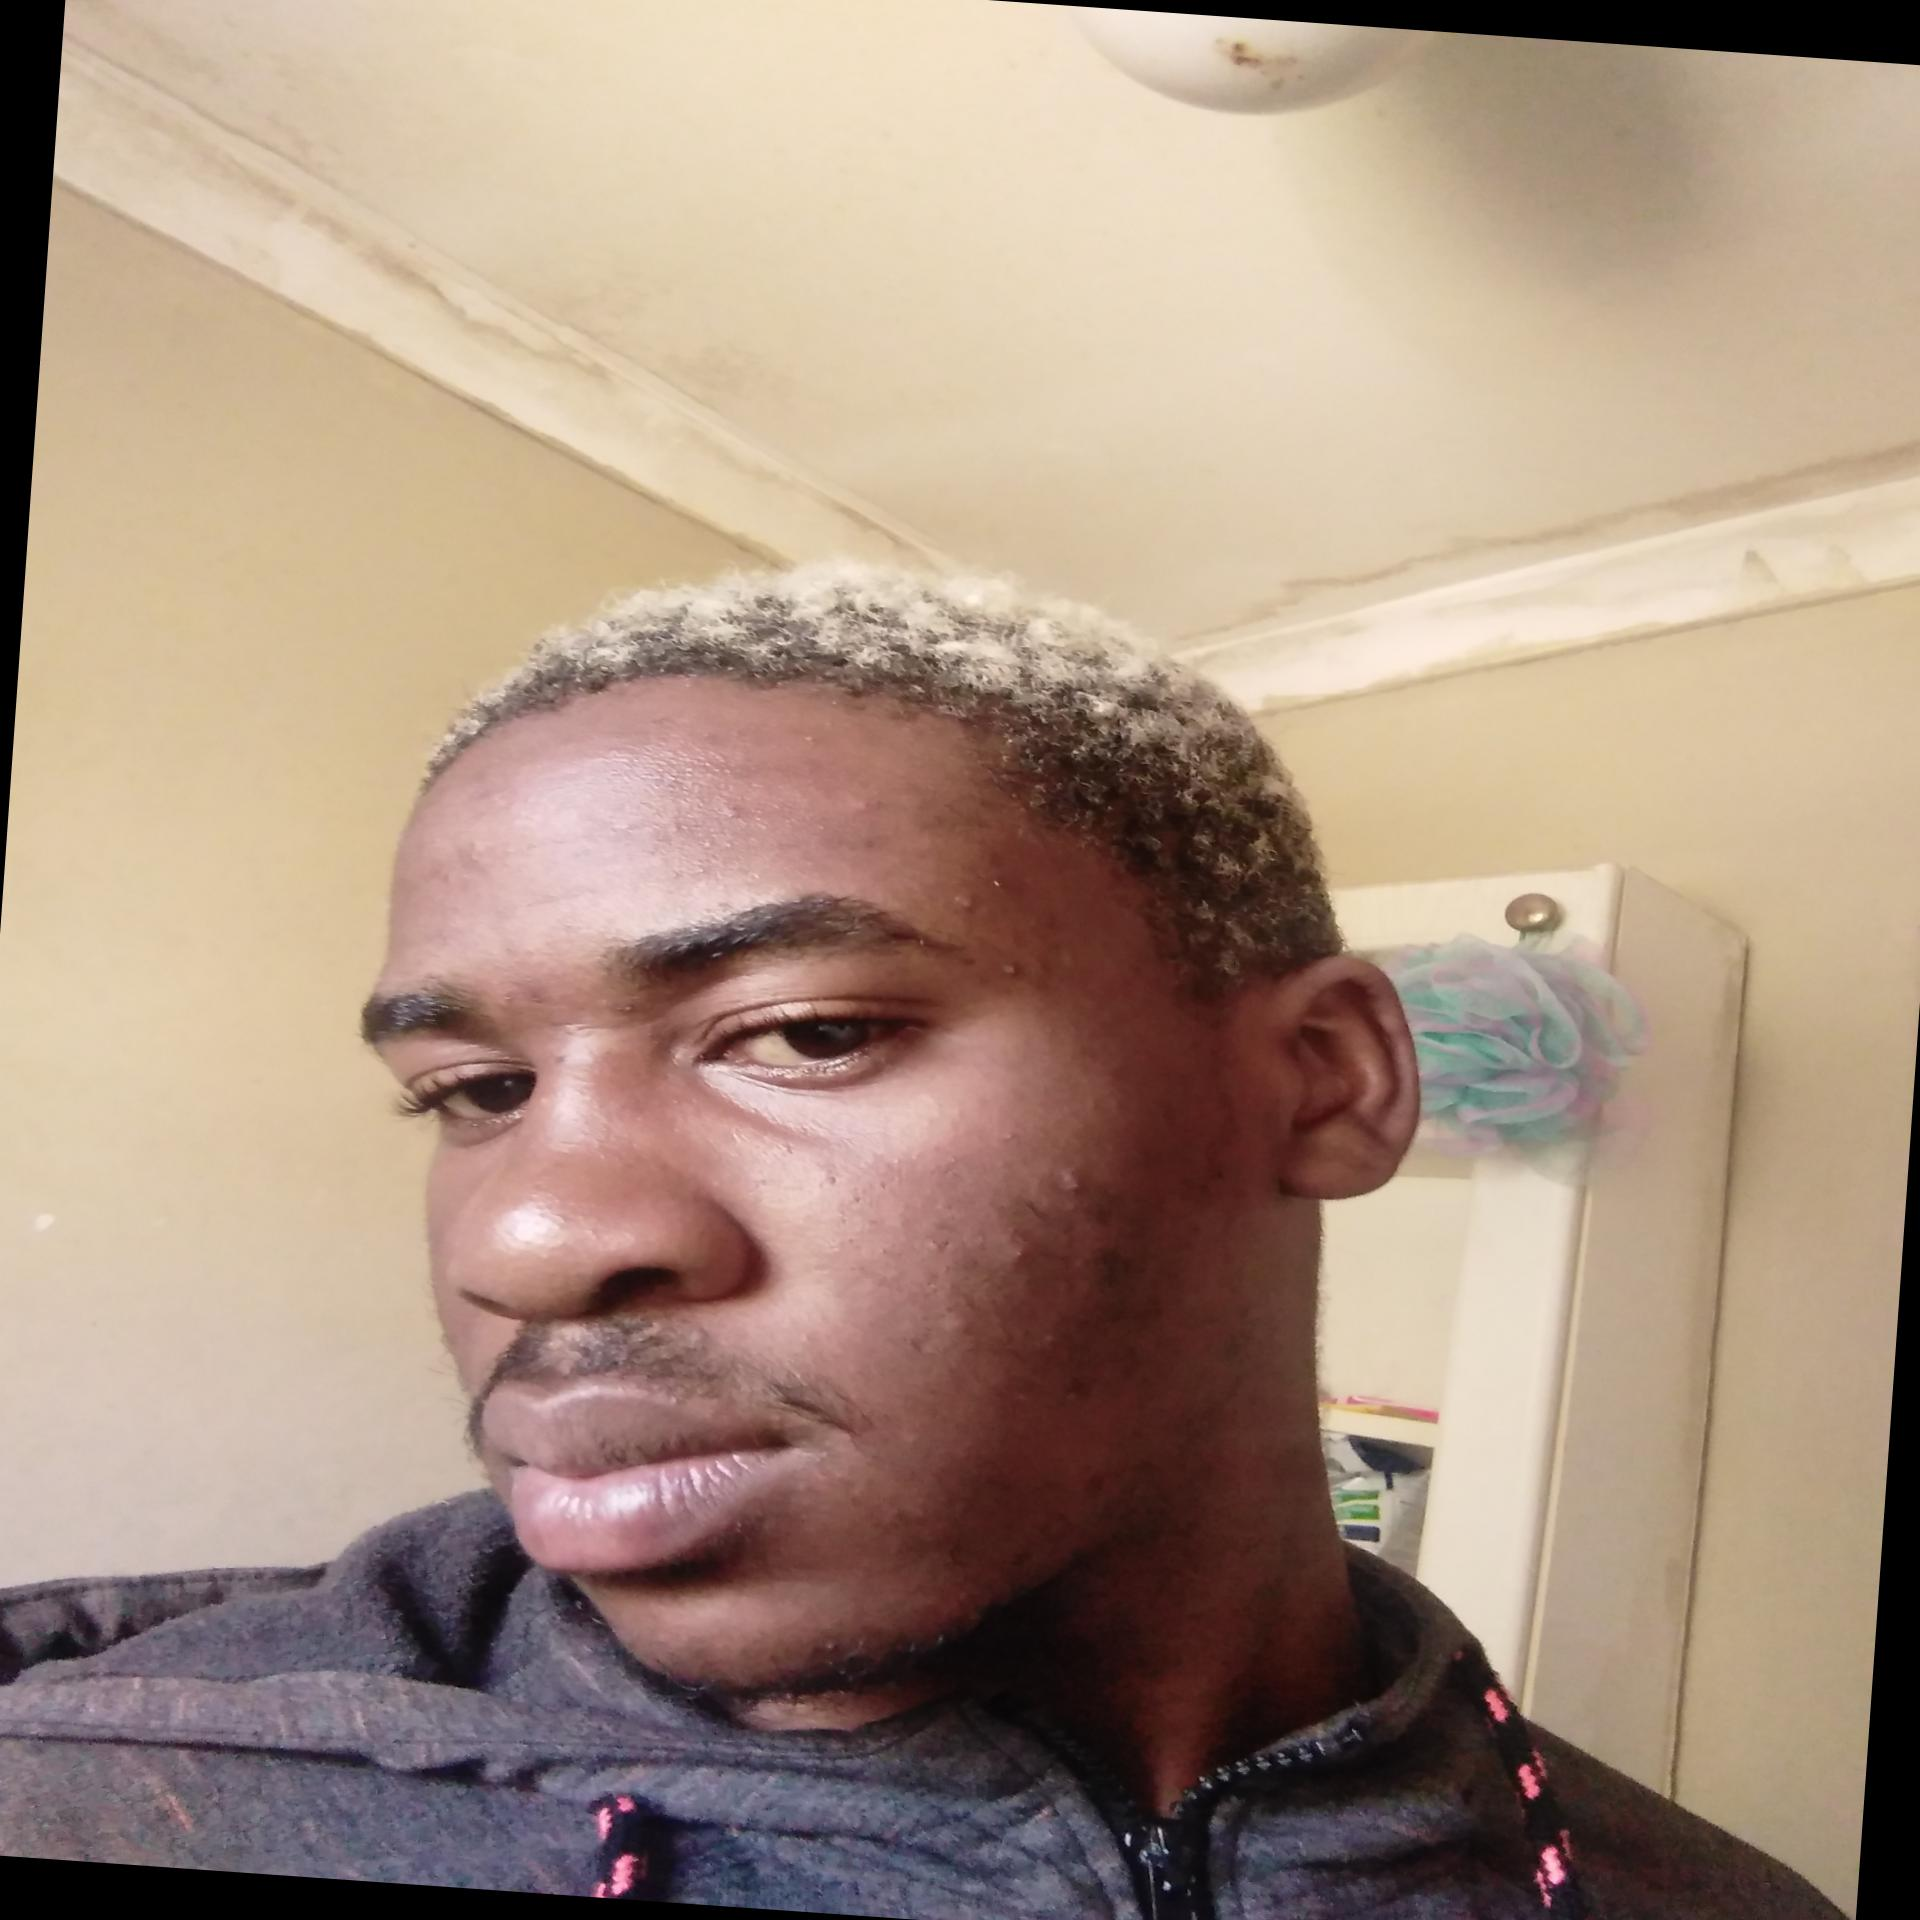Acne: (1050, 1162, 1095, 1196), (999, 1238, 1037, 1271), (992, 955, 1030, 985), (846, 789, 879, 818), (893, 1422, 928, 1449), (710, 798, 747, 823), (949, 890, 978, 914), (461, 833, 480, 867), (594, 740, 622, 763), (1034, 1329, 1062, 1350), (791, 731, 819, 751), (1041, 907, 1065, 928), (476, 791, 503, 809)
Englarged Pores: (798, 1152, 983, 1292)
Wrinkles: (543, 1011, 633, 1039), (522, 883, 591, 911)
